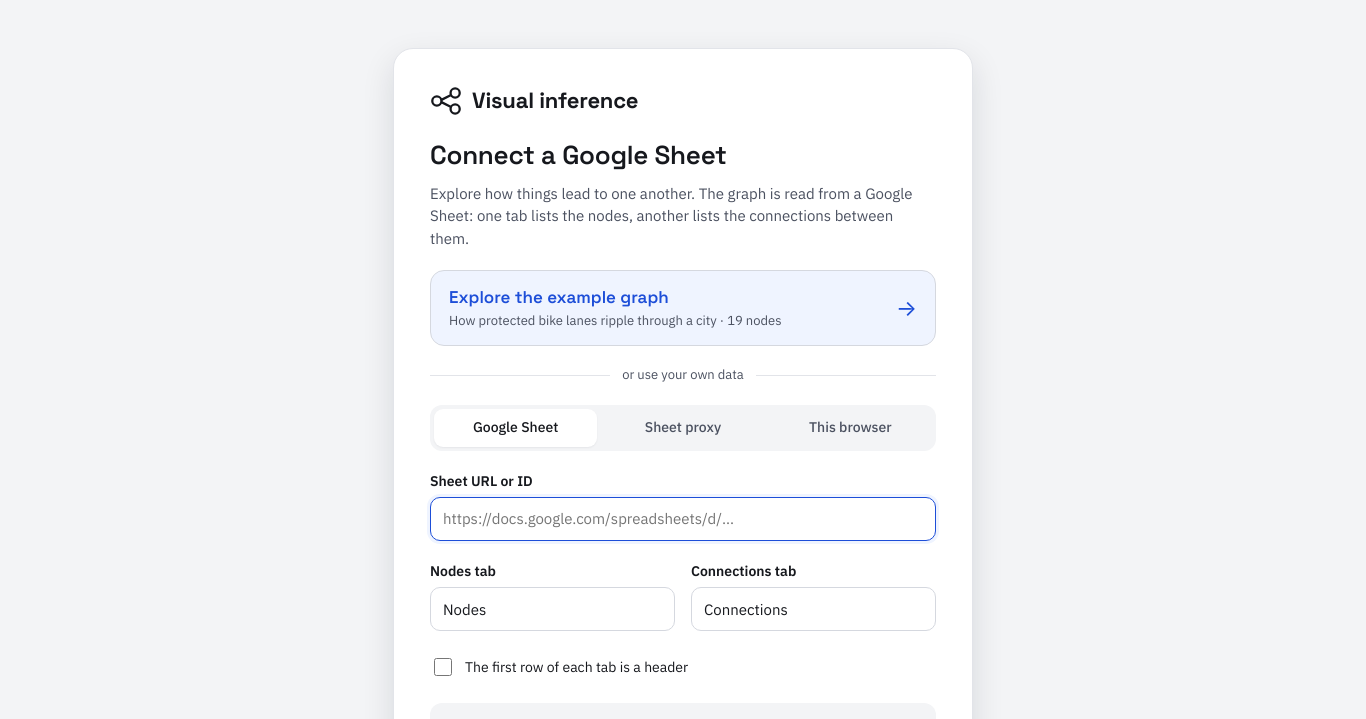
Scenario: opens the example from the setup screen
Click the button "Explore the example graph".
click(559, 297)  # box [430, 270, 936, 346]
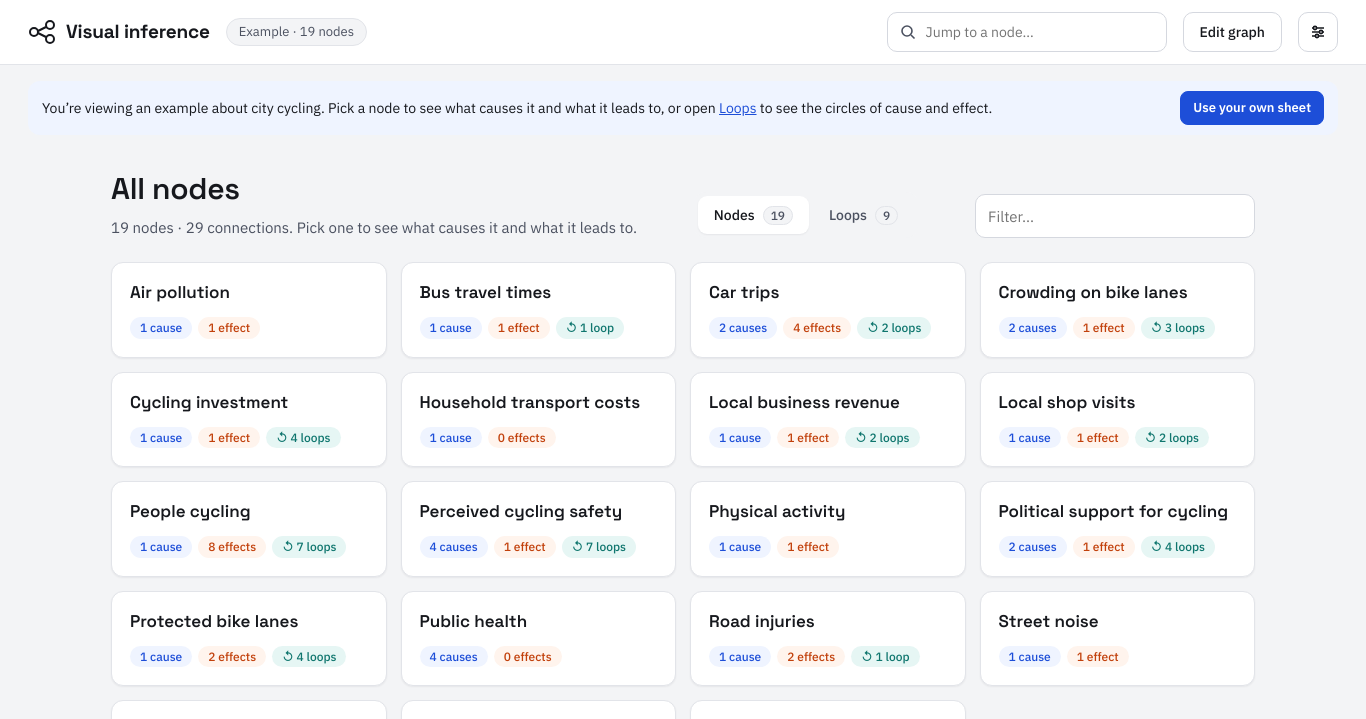
Expected: the text "Protected bike lanes" is shown, [130, 610, 298, 632]
Expected: the text "You’re viewing an example" is shown, [42, 99, 719, 117]
